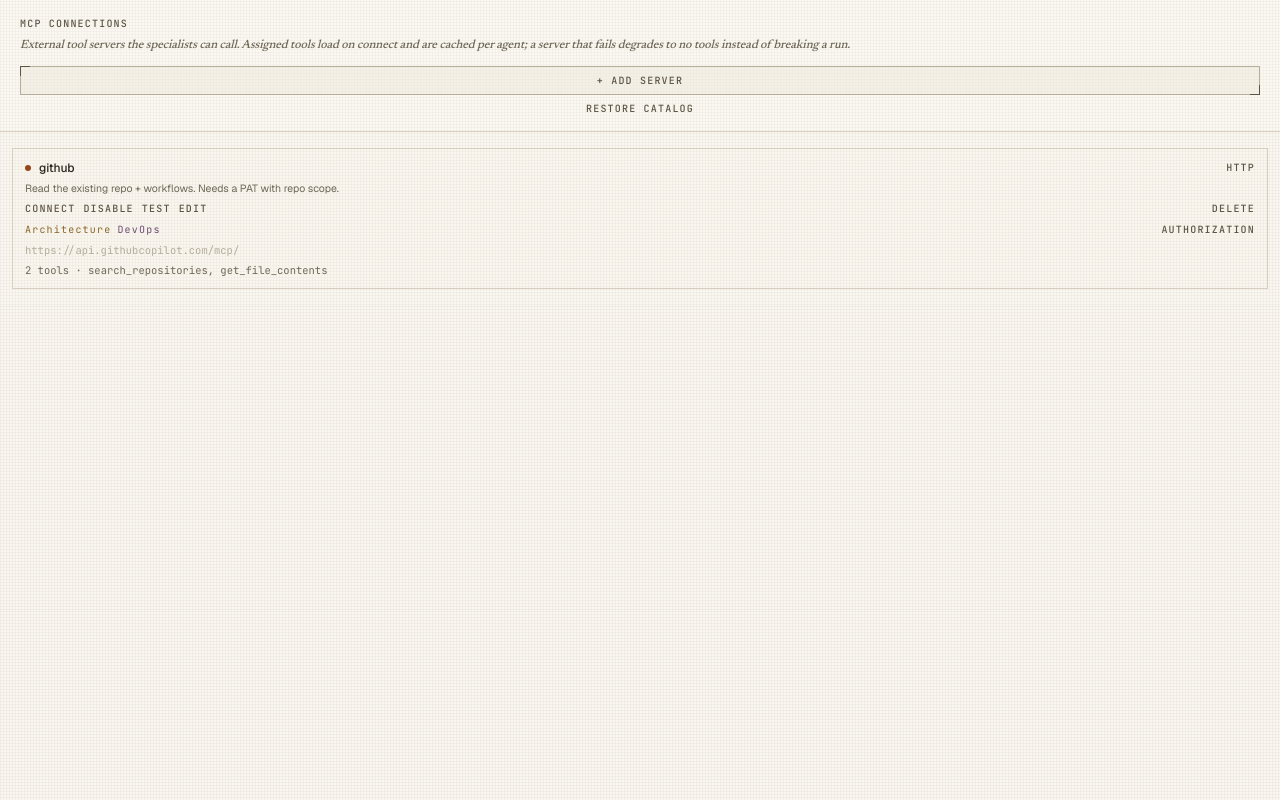
McpPanel › explains blocked popups without starting a flow
The width and height of the screenshot is (1280, 800).
Click the button "CONNECT".
click(50, 208)  # box [25,201,75,216]
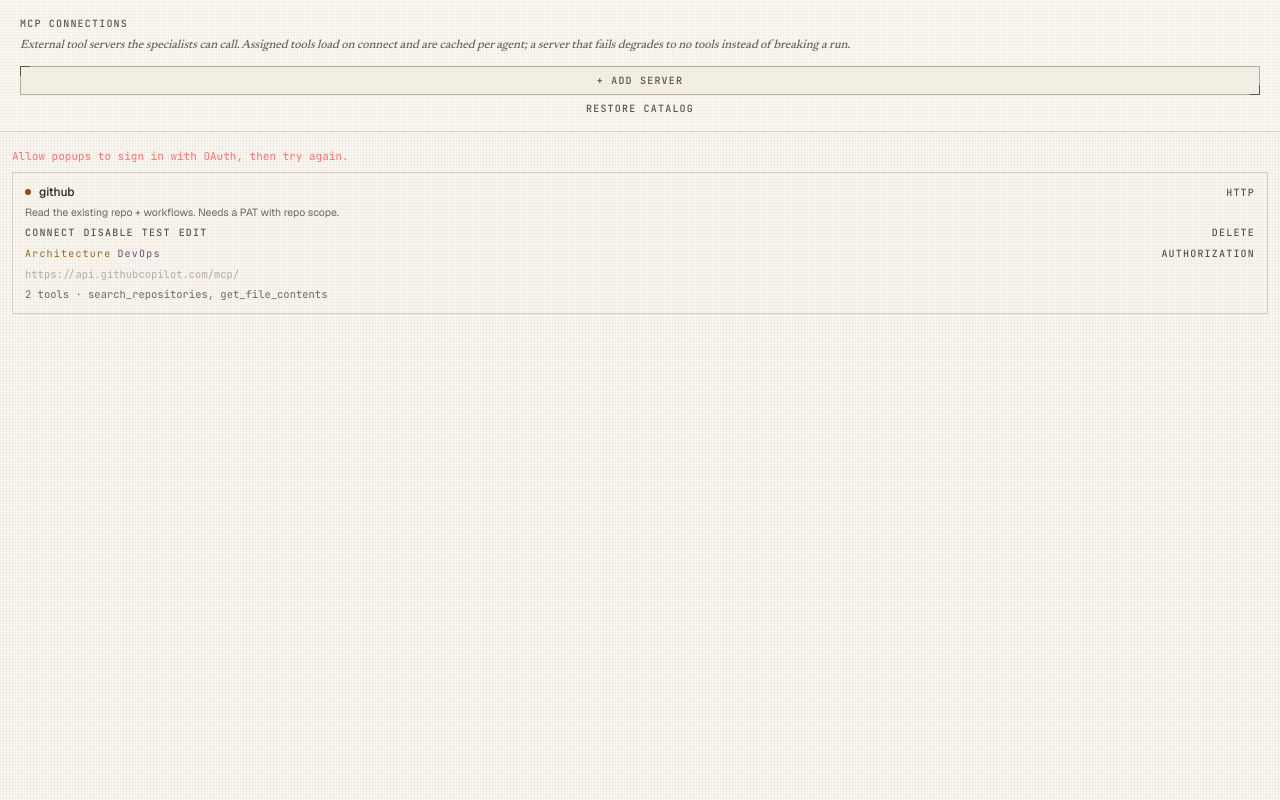
Expected: the text "Allow popups to sign in with OAuth, then try again." is shown, [12,148,349,162]
